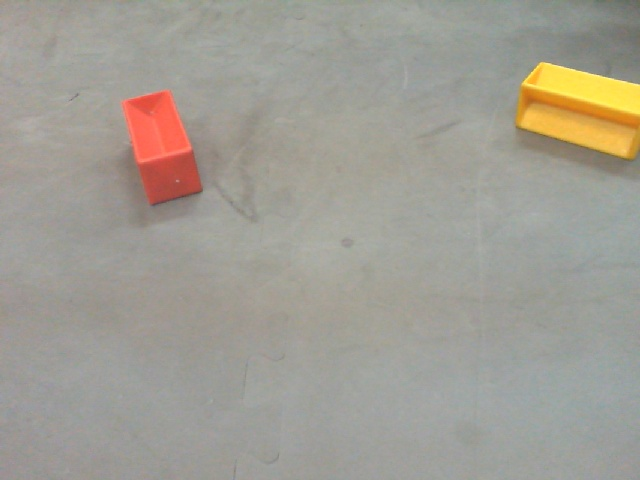RedSample: (121, 87, 209, 209)
YellowSample: (511, 63, 640, 163)
